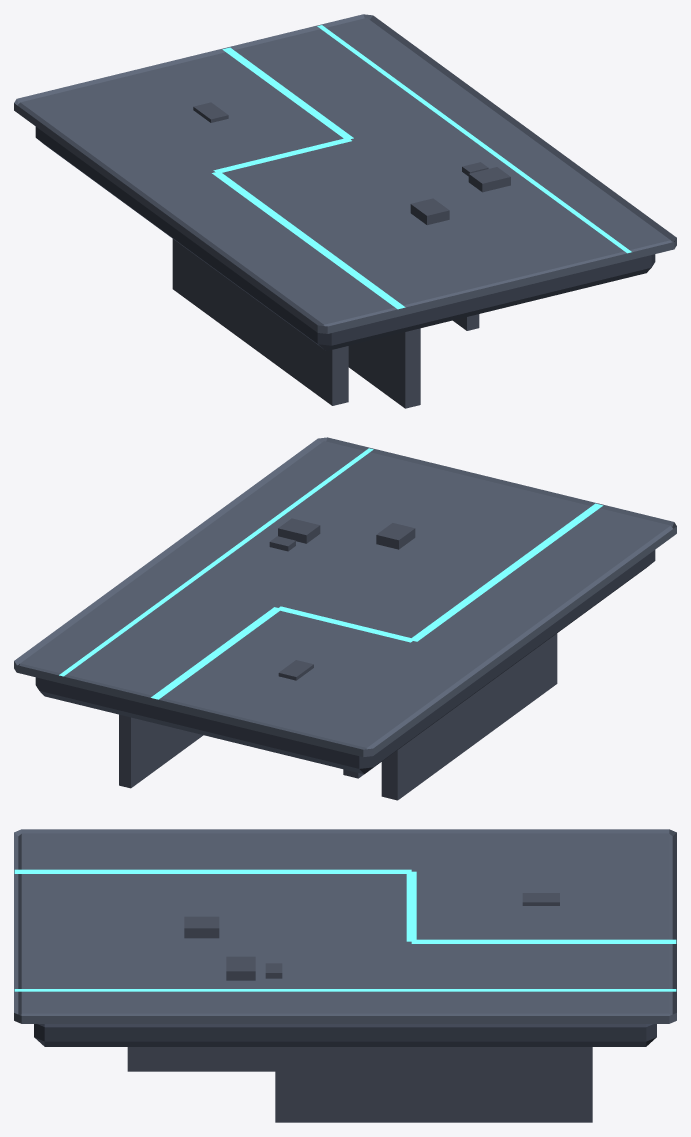
Rendered from platform_ramp.glb.
3 renders of one model, top to bottom at view 1: azimuth 30°, elevation 25°; view 2: azimuth 150°, elevation 25°; view 3: azimuth 270°, elevation 25°, orthographic. The views are drawn at different scales.
Visible parts, largest first — view 1: platform_ramp; view 2: platform_ramp; view 3: platform_ramp.
Part boxes in pixels (x1,y1,x2,y2): platform_ramp: (14, 14, 676, 408); platform_ramp: (14, 437, 676, 800); platform_ramp: (14, 829, 676, 1122).
Bounding box in the file's own units: 4 × 1.72 × 6.
